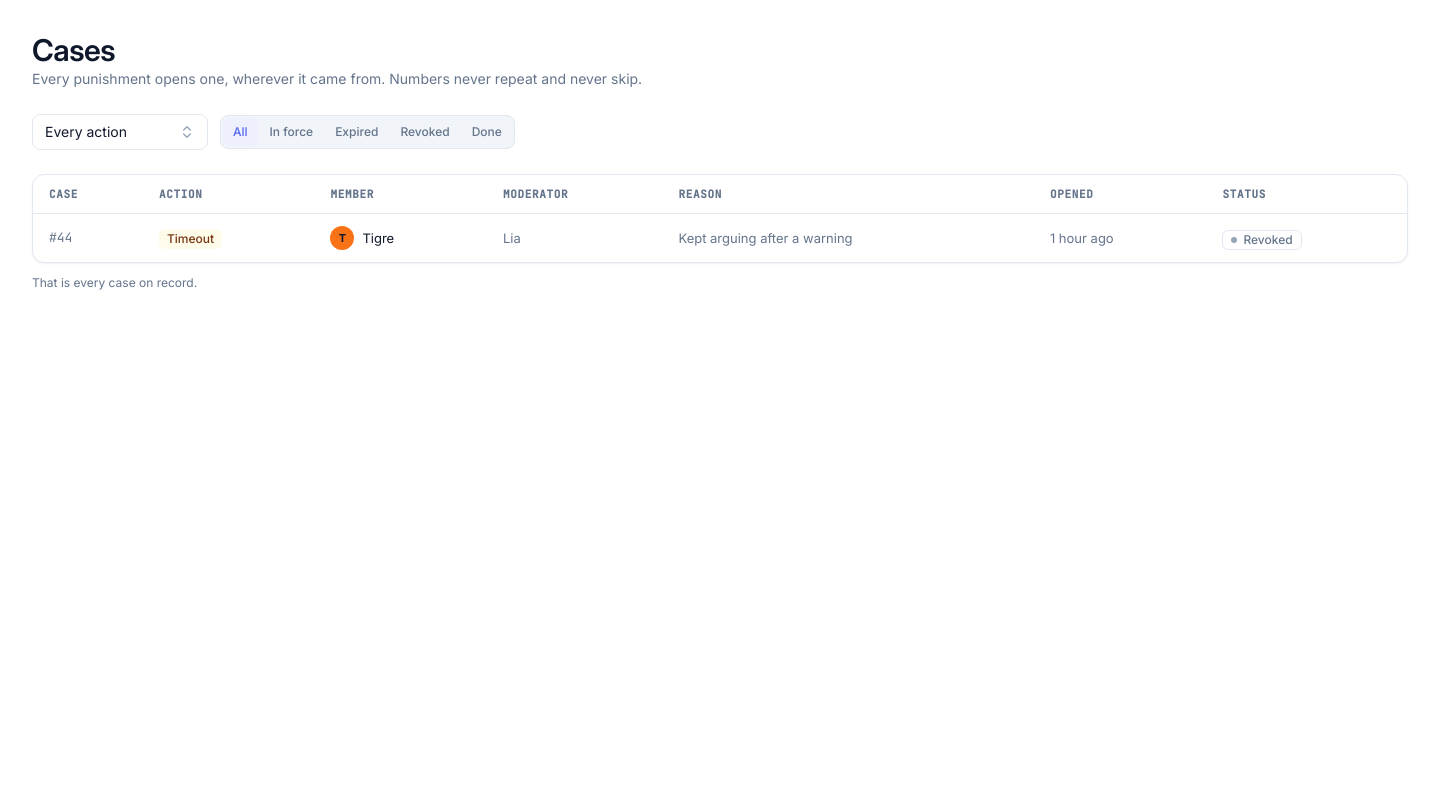
Test: CasesScreen › names who withdrew the case, which the drawer never used to say
Click the button with aria-label "Open case 44": (720, 238) [33,214,1407,262]
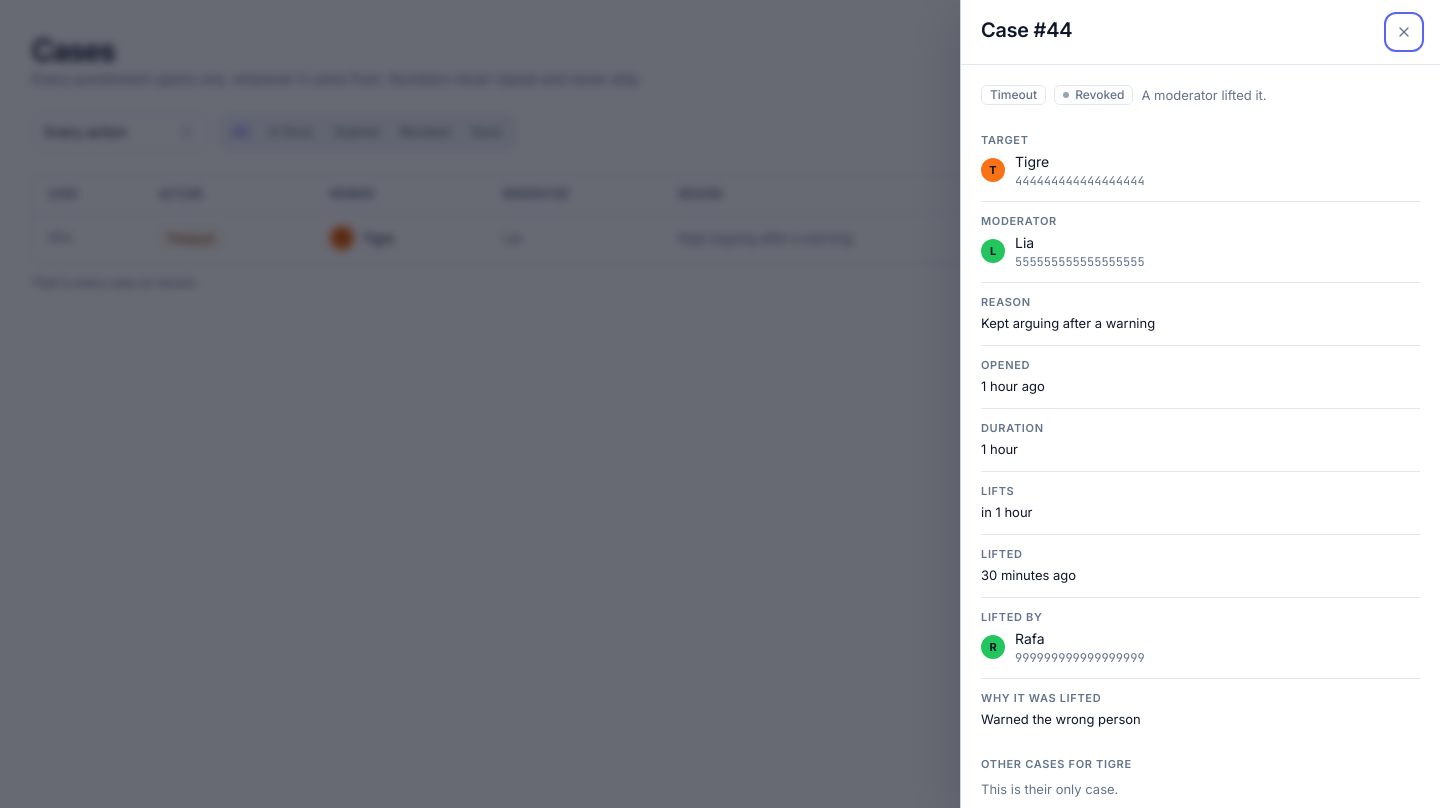
Check: the text "Lifted by" is shown, box [981,610,1042,624]
Check: the text "Rafa" is shown, box [1015,630,1045,647]
